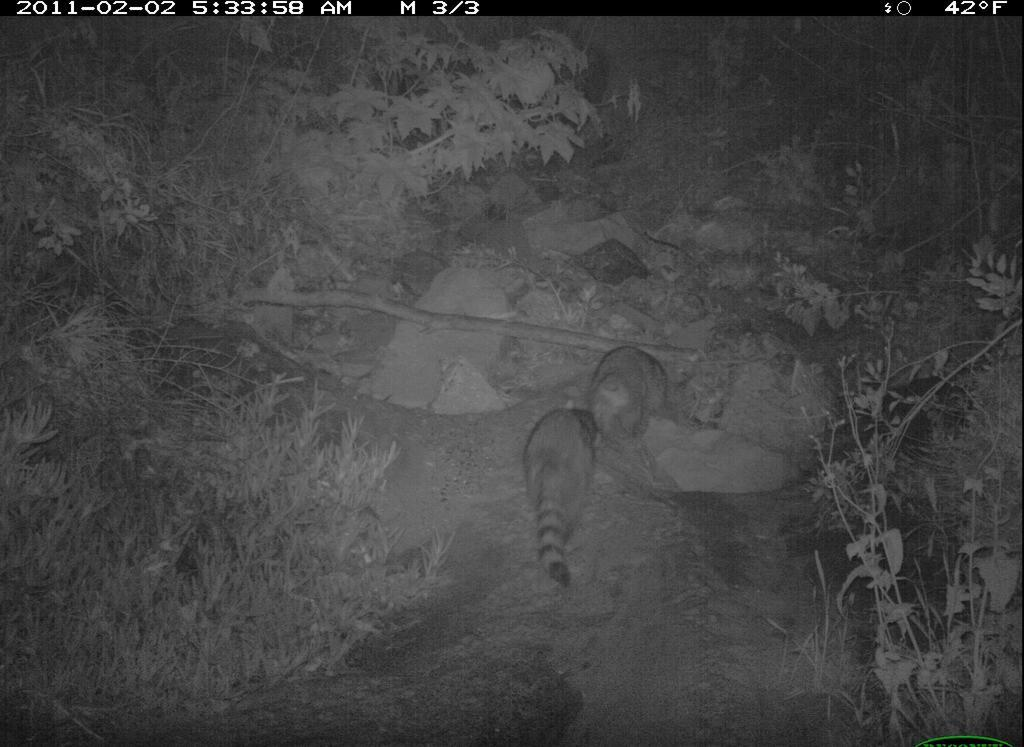raccoon: (518, 392, 603, 603), (591, 342, 678, 459)
